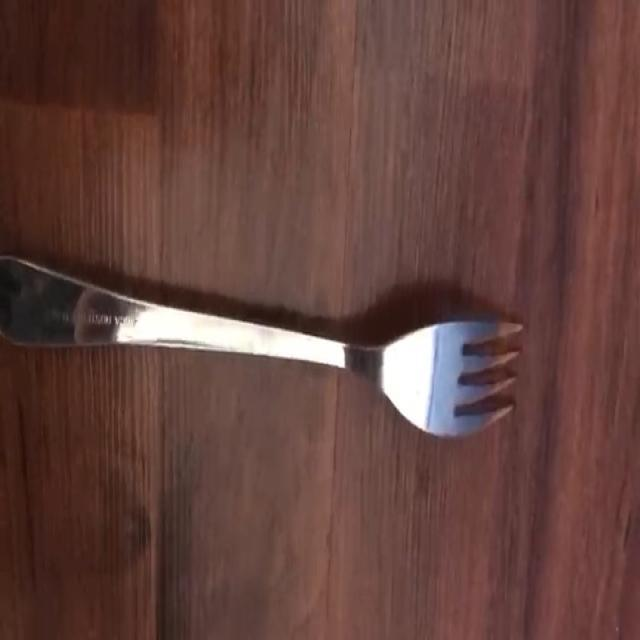spoon: (0, 256, 521, 437)
